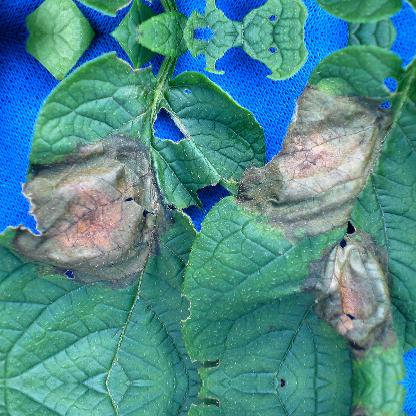Late-Blight: (223, 52, 416, 370), (10, 86, 136, 294)
